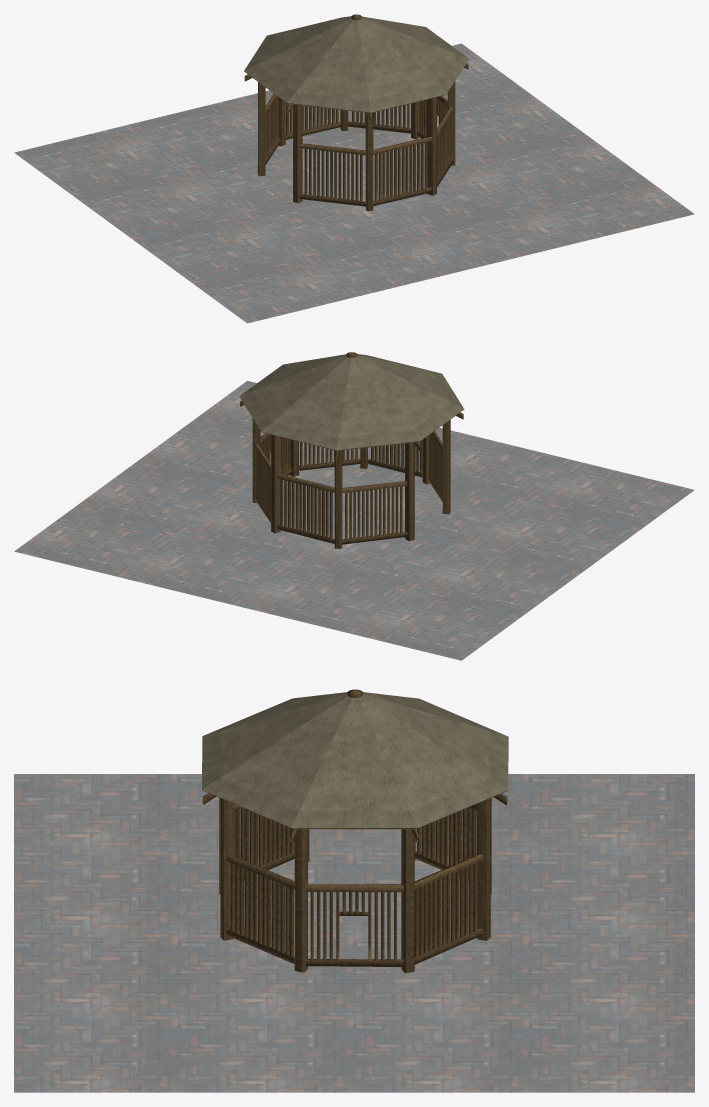
File: mdl_brush_courtyard.gltf
3 renders of one model, top to bottom at view 1: azimuth 30°, elevation 25°; view 2: azimuth 150°, elevation 25°; view 3: azimuth 270°, elevation 25°, orthographic. The views are drawn at different scales.
Parts seen in each view (by area): view 1: Plane.021; view 2: Plane.021; view 3: Plane.021.
Part boxes in pixels (bbox=[...]): Plane.021: bbox=[14, 14, 694, 323]; Plane.021: bbox=[14, 352, 694, 660]; Plane.021: bbox=[14, 689, 694, 1092].
Size of the model in its own units: 6.52 by 2.34 by 5.89.
3 materials, 3 textured.
